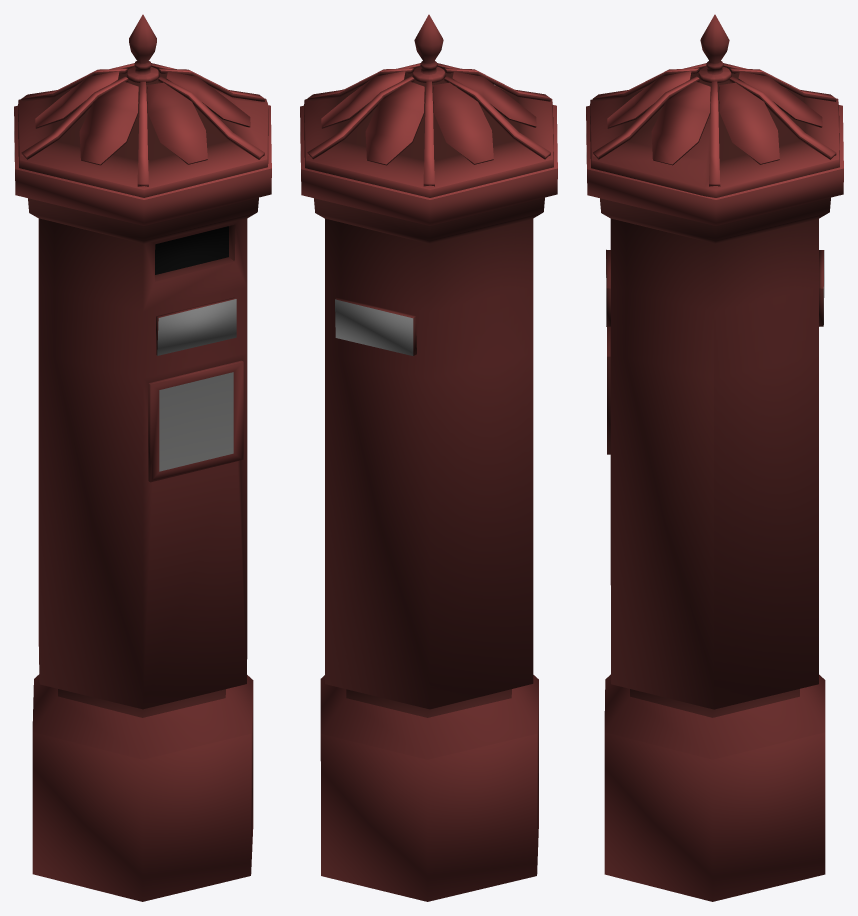
File: furnishings-outdoor-letterbox_v1.glb
3 views of the same model, side by side, from view 1: azimuth 30°, elevation 25°; view 2: azimuth 150°, elevation 25°; view 3: azimuth 270°, elevation 25° (orthographic).
Parts seen in each view (by area): view 1: Letterbox.001; view 2: Letterbox.001; view 3: Letterbox.001.
Part boxes in pixels (x1=…): Letterbox.001: x1=14, y1=14, x2=271, y2=901; Letterbox.001: x1=300, y1=14, x2=557, y2=901; Letterbox.001: x1=586, y1=14, x2=843, y2=901.
Size of the model in its own units: 0.5481 by 1.7 by 0.4767.
